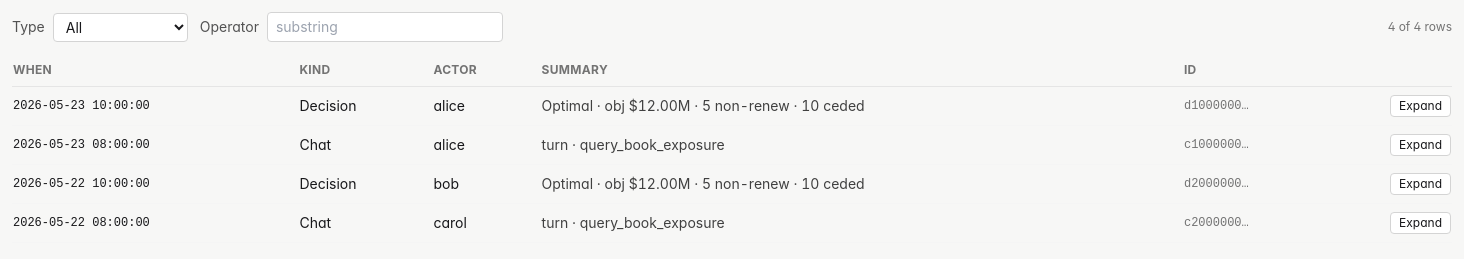
it: <AuditLedger /> › operator filter — typing reduces row count
This screenshot has width=1464, height=259.
Expected: the number of rows with test id "audit-row" is 4, [12,86,1452,126]; [12,126,1452,164]; [12,164,1452,204]; [12,204,1452,242]
Type "alice" into the field with test id "audit-filter-operator" at (385, 27), box [267,12,503,42]
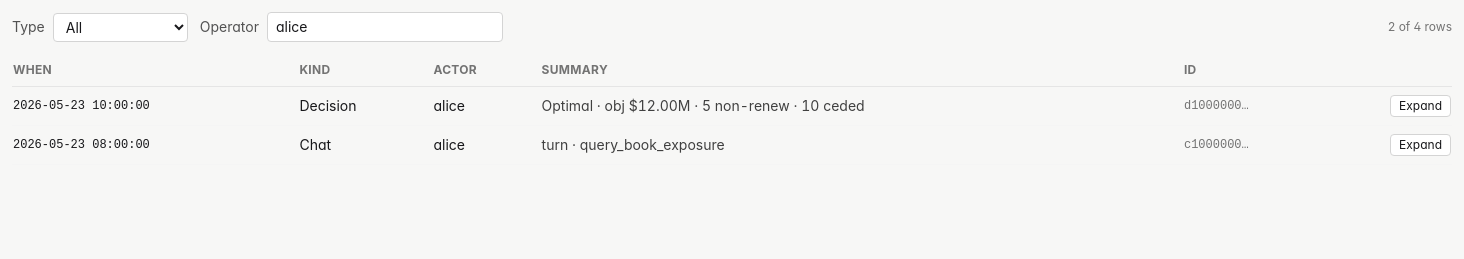
Now the number of rows with test id "audit-row" is 2, box [12,86,1452,126]; [12,126,1452,164]
